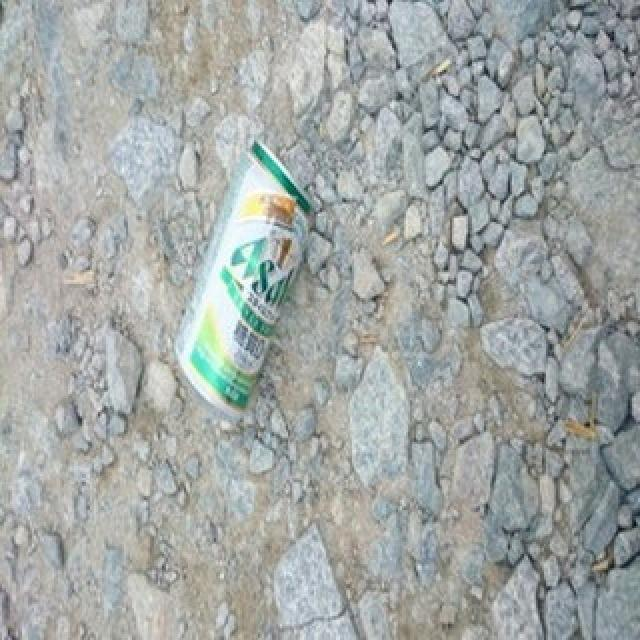can: (172, 142, 314, 419)
